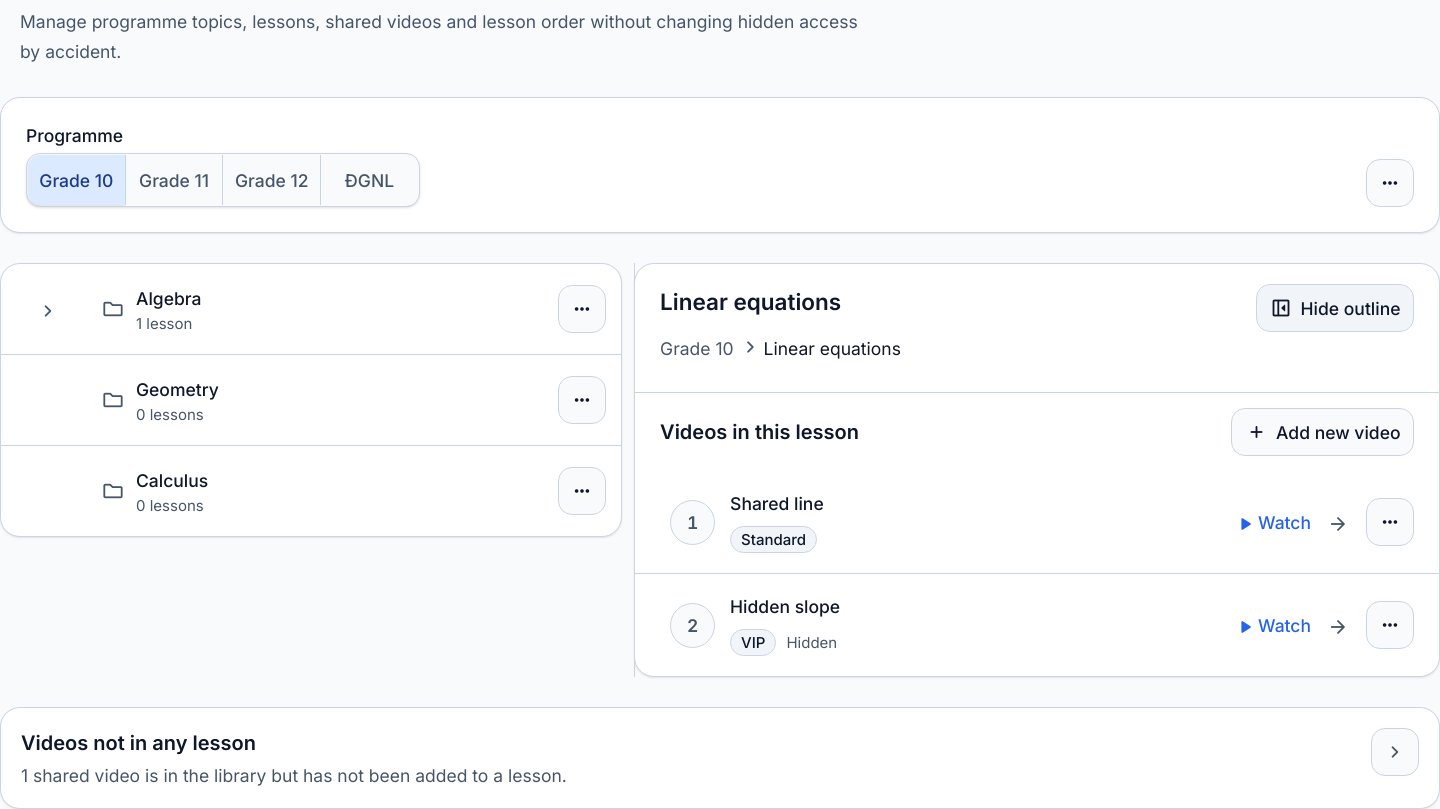
TeacherLecturesPage curriculum management › keeps edge-case videos that are not in any lesson collapsed until opened
(page scrolled)
Expected: the text "Unplaced library video" is not shown
Step 1. Click the button "Videos not in any lesson" → (138, 743), box [21, 728, 1419, 788]
(page scrolled)
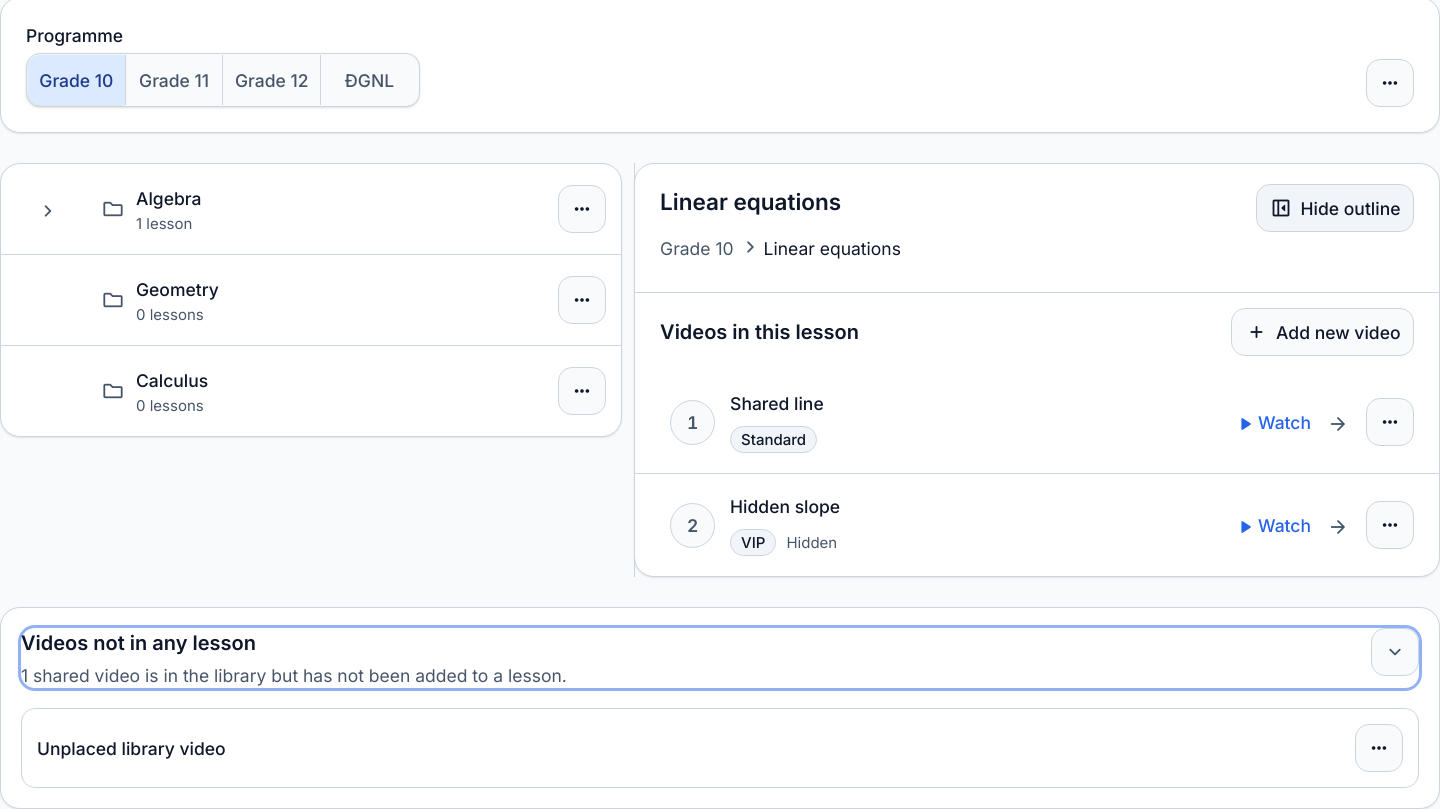
Result: the button "Videos not in any lesson" is expanded at [21, 628, 1419, 688]
Result: the link "Unplaced library video" is shown at [37, 738, 226, 759]
Result: the button named "Unit actions for Unplaced library video" is shown at [1355, 724, 1403, 772]
